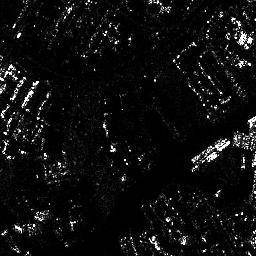ship: (191, 137, 228, 162)
